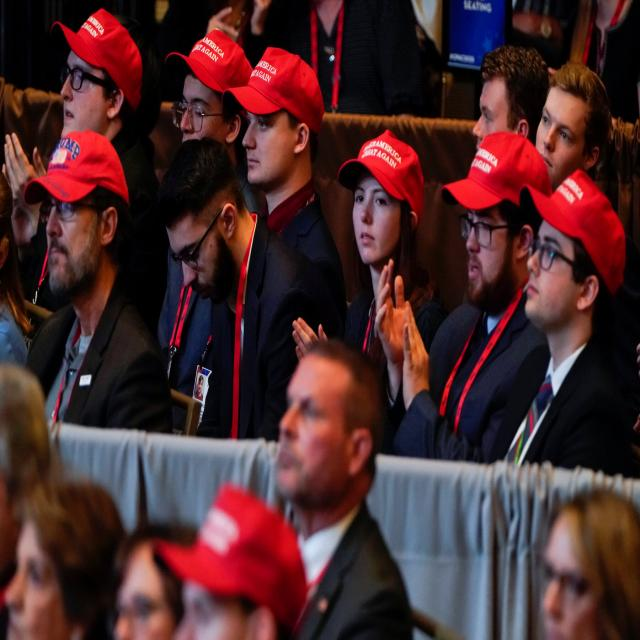cap: (160, 485, 308, 640), (444, 129, 554, 311), (23, 128, 132, 301), (521, 166, 624, 330), (227, 46, 326, 187), (49, 10, 142, 141), (340, 129, 427, 262), (165, 29, 256, 146)
head: (4, 482, 124, 640), (267, 341, 378, 504), (537, 493, 640, 640), (159, 140, 251, 300), (110, 526, 190, 640), (534, 60, 608, 174), (476, 46, 547, 152)
